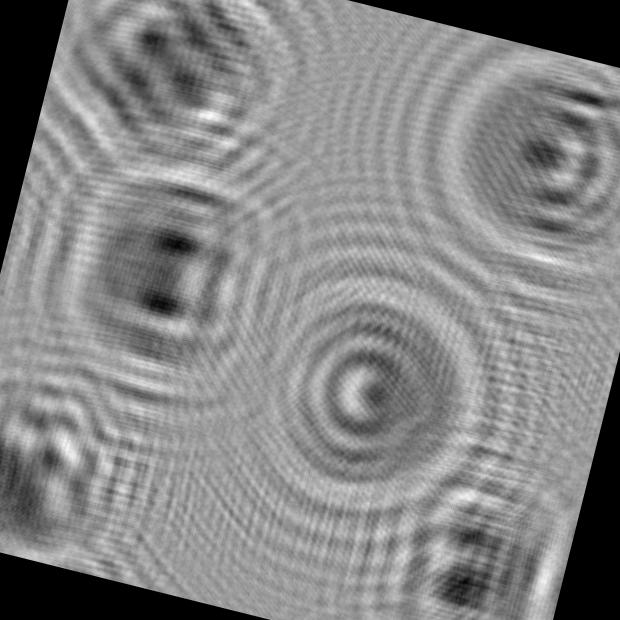C: (194, 200, 534, 567)
E: (7, 117, 310, 422)
F: (349, 426, 589, 620)
H: (29, 0, 318, 214)
K: (0, 312, 200, 588)
U: (416, 30, 620, 286)
